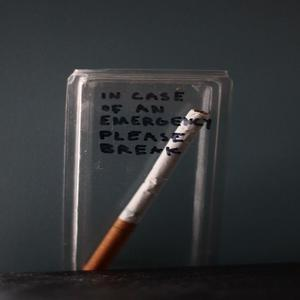cigarette: (83, 101, 210, 276)
